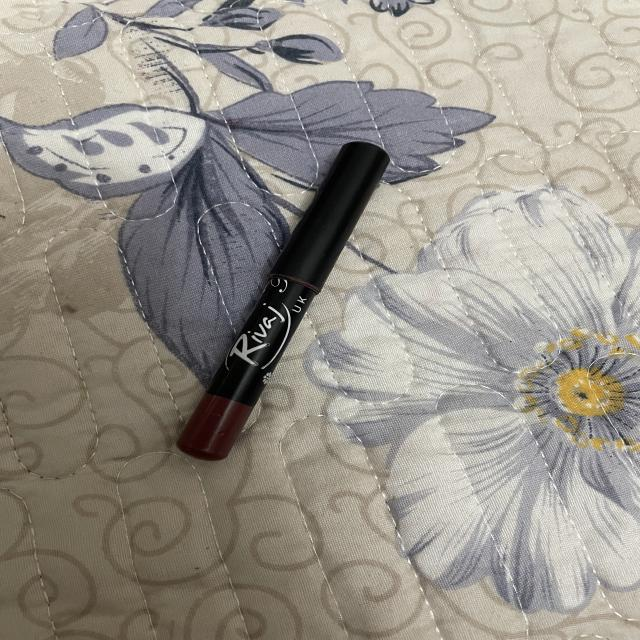lip liner: (160, 137, 402, 460)
